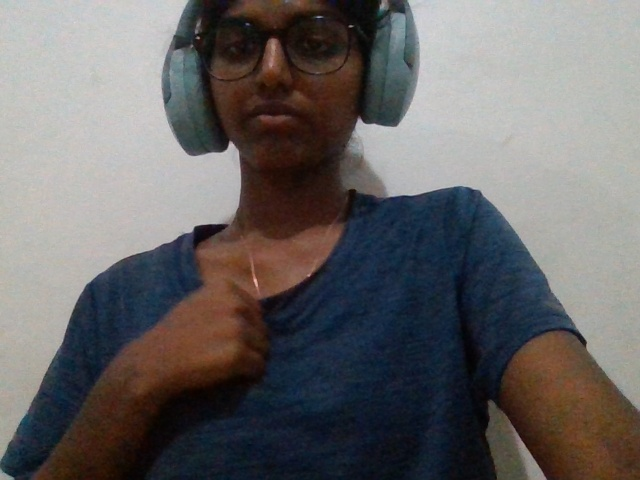Sorry: (75, 270, 293, 417)
